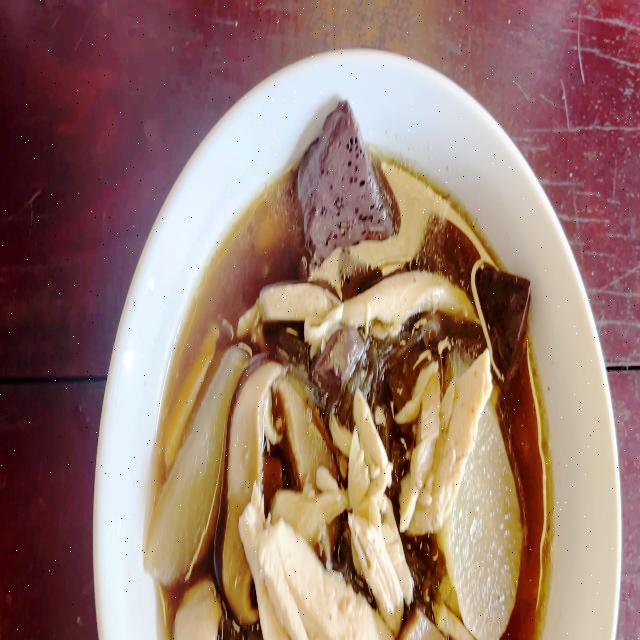boiled_chicken_blood_jelly: (294, 115, 390, 252), (475, 260, 532, 370), (319, 321, 363, 383)
chicken_shredded: (246, 507, 366, 640), (403, 357, 492, 525), (343, 403, 403, 606), (256, 271, 338, 334), (356, 278, 466, 322), (175, 584, 221, 640)
daikon_radish: (141, 343, 242, 577), (455, 443, 522, 635)
noodle: (156, 156, 547, 640)
